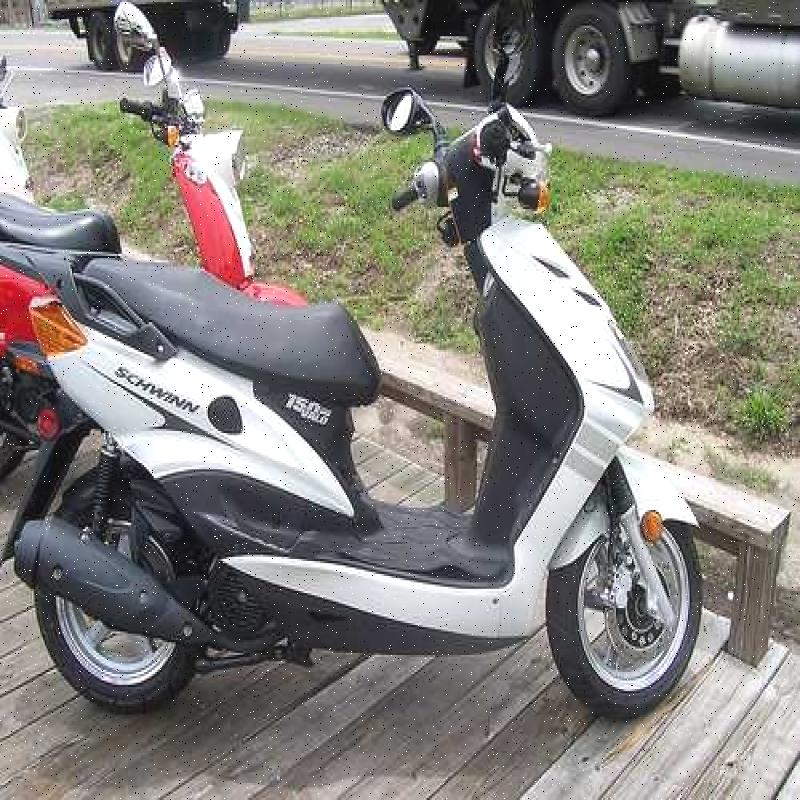bike: (13, 93, 686, 712), (0, 5, 315, 367)
